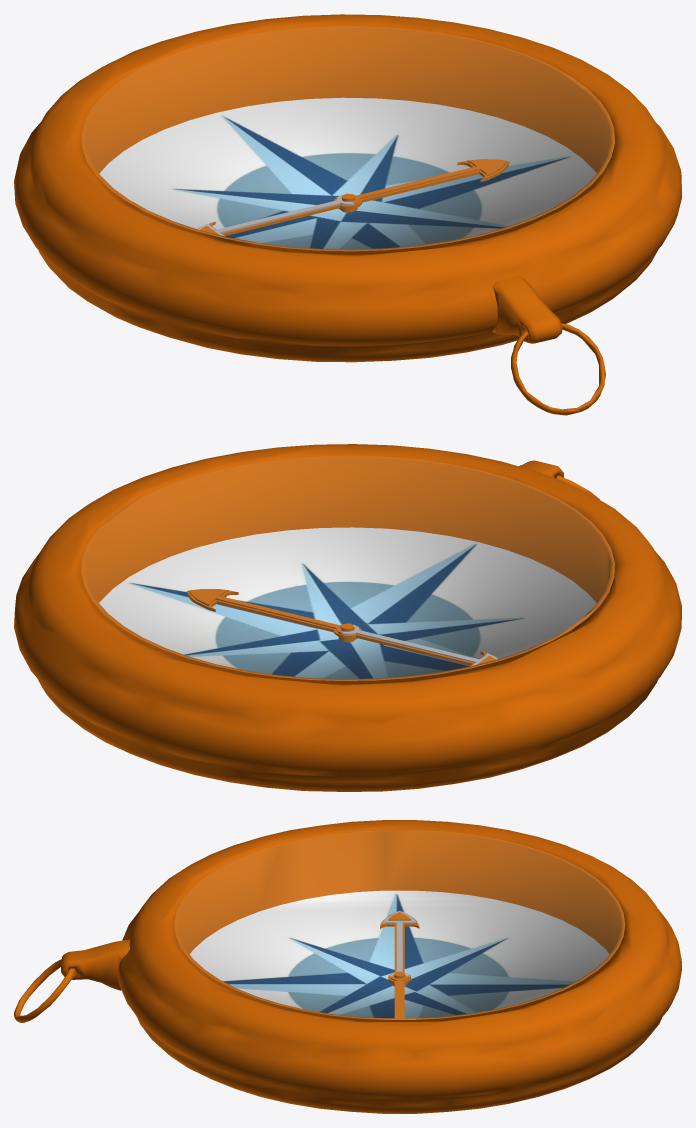
File: compass.glb
The picture shows the model from 3 angles, top to bottom: view 1: azimuth 30°, elevation 25°; view 2: azimuth 150°, elevation 25°; view 3: azimuth 270°, elevation 25°; orthographic projection. The views are drawn at different scales.
Visible parts, largest first — view 1: Material2 (×2); view 2: Material2 (×2); view 3: Material2 (×2).
Part boxes in pixels (x1,y1,x2,y2): Material2 (×2): [14, 14, 681, 415]; Material2 (×2): [14, 444, 681, 791]; Material2 (×2): [14, 820, 681, 1113].
Size of the model in its own units: 88.11 by 20.81 by 104.
3 materials, 3 textured.
